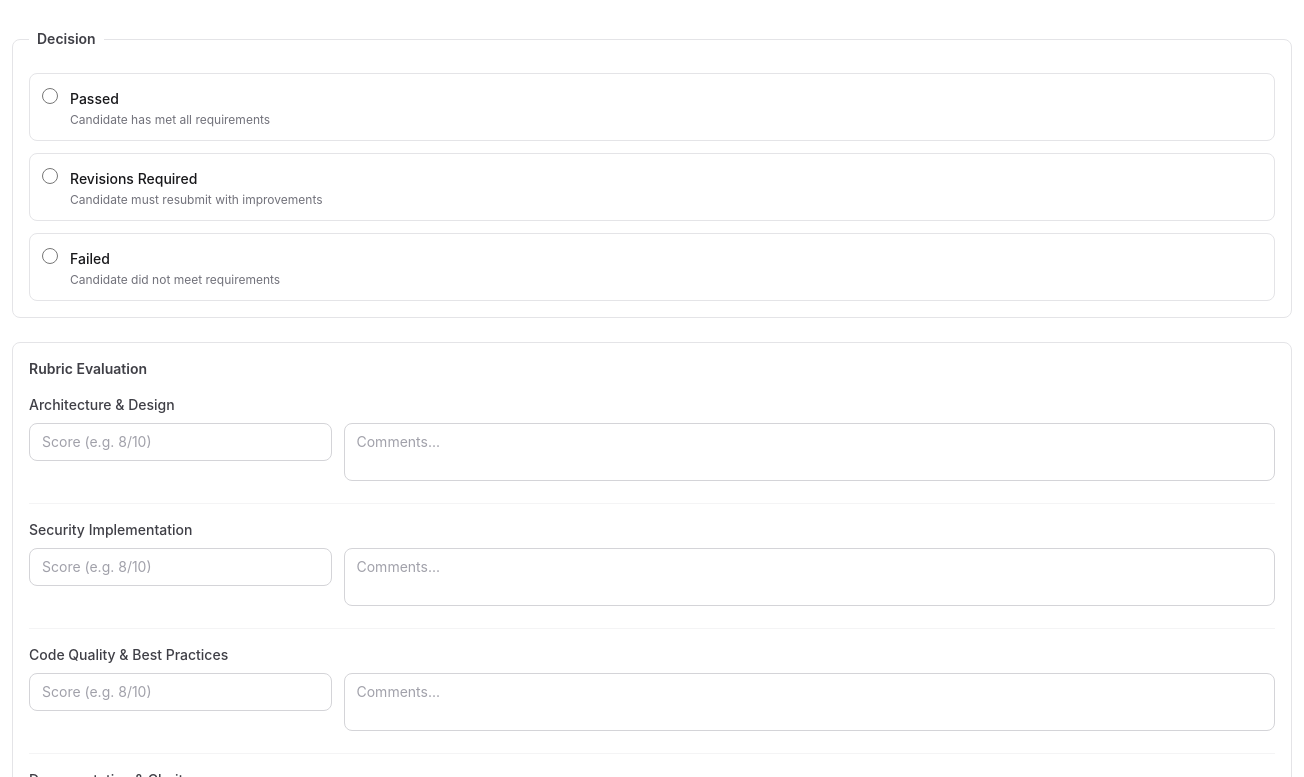
surfaces a submit error
Click the radio button labelled "Revisions Required Candidate must resubmit with improvements".
click(50, 176)  # box [42,168,58,184]
(page scrolled)
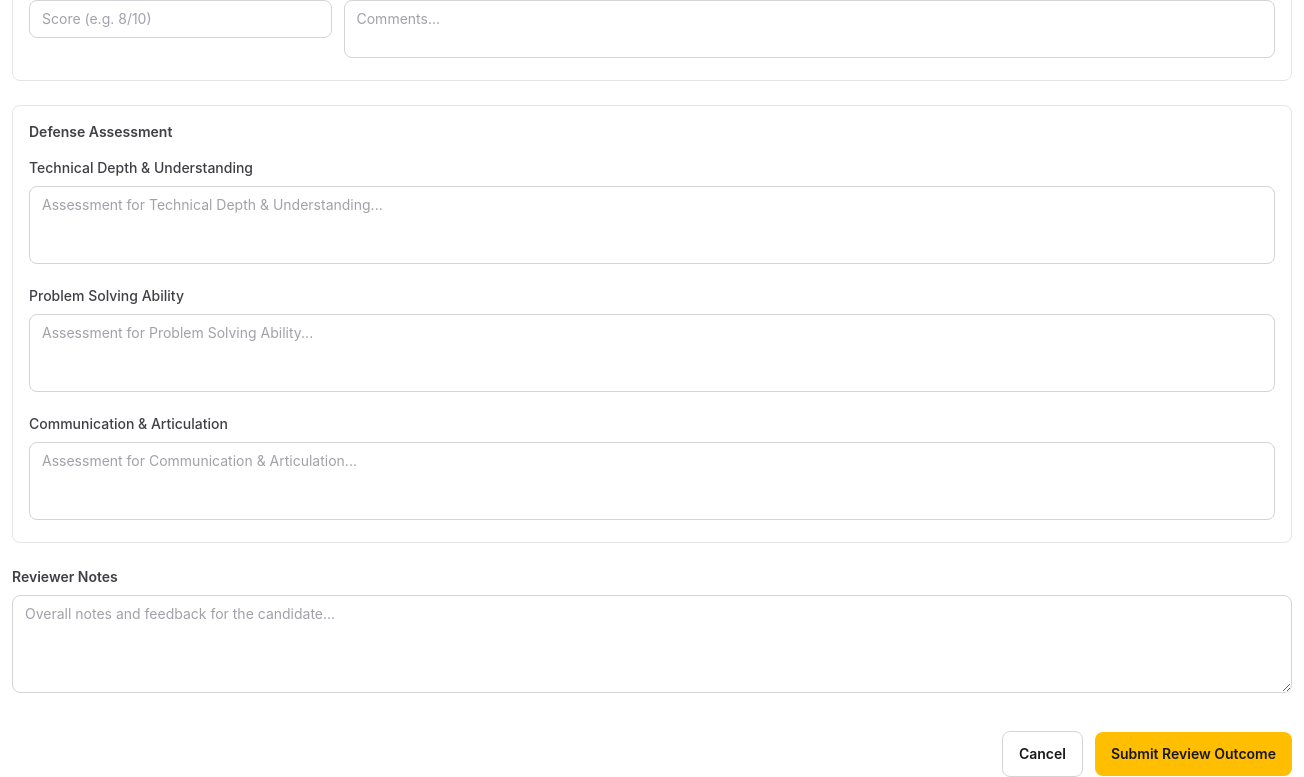
Click the button "Submit Review Outcome".
click(1193, 754)  # box [1095,732,1292,776]
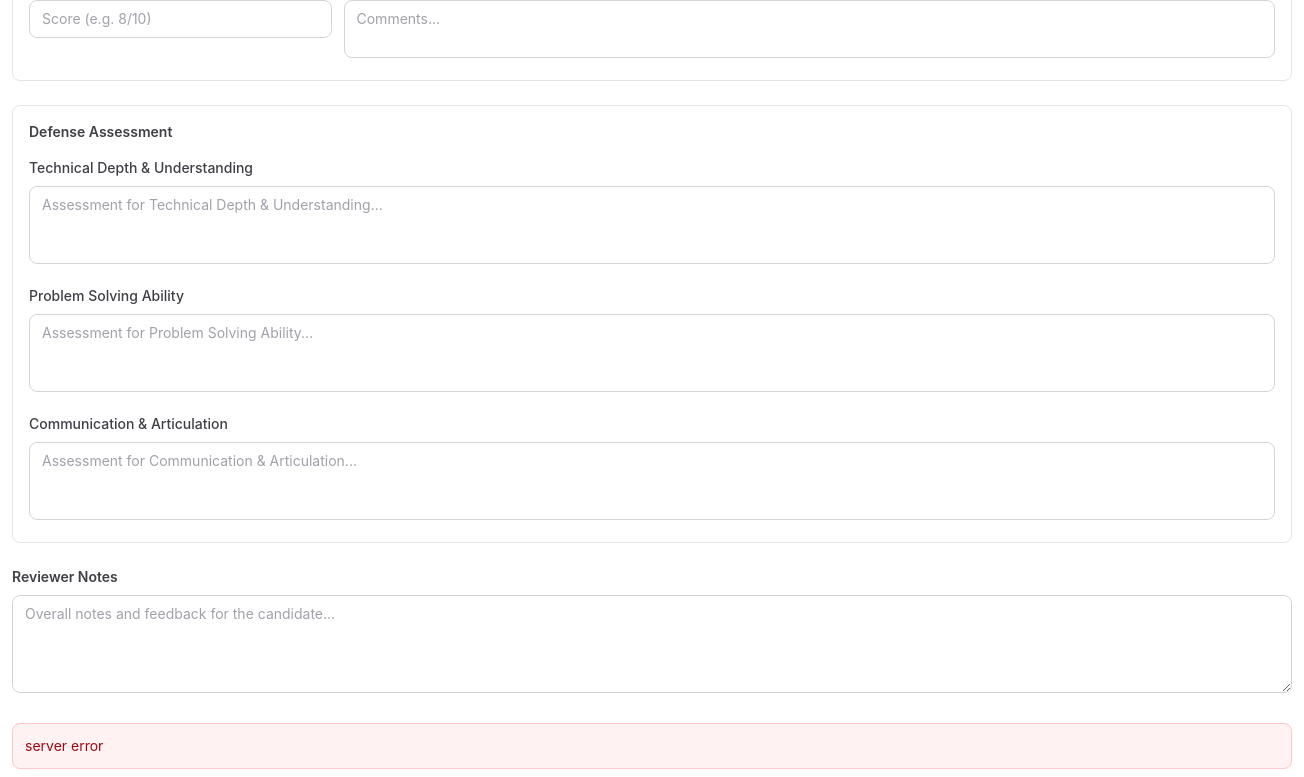
Expected: the text "server error" is shown, [25,737,103,754]
